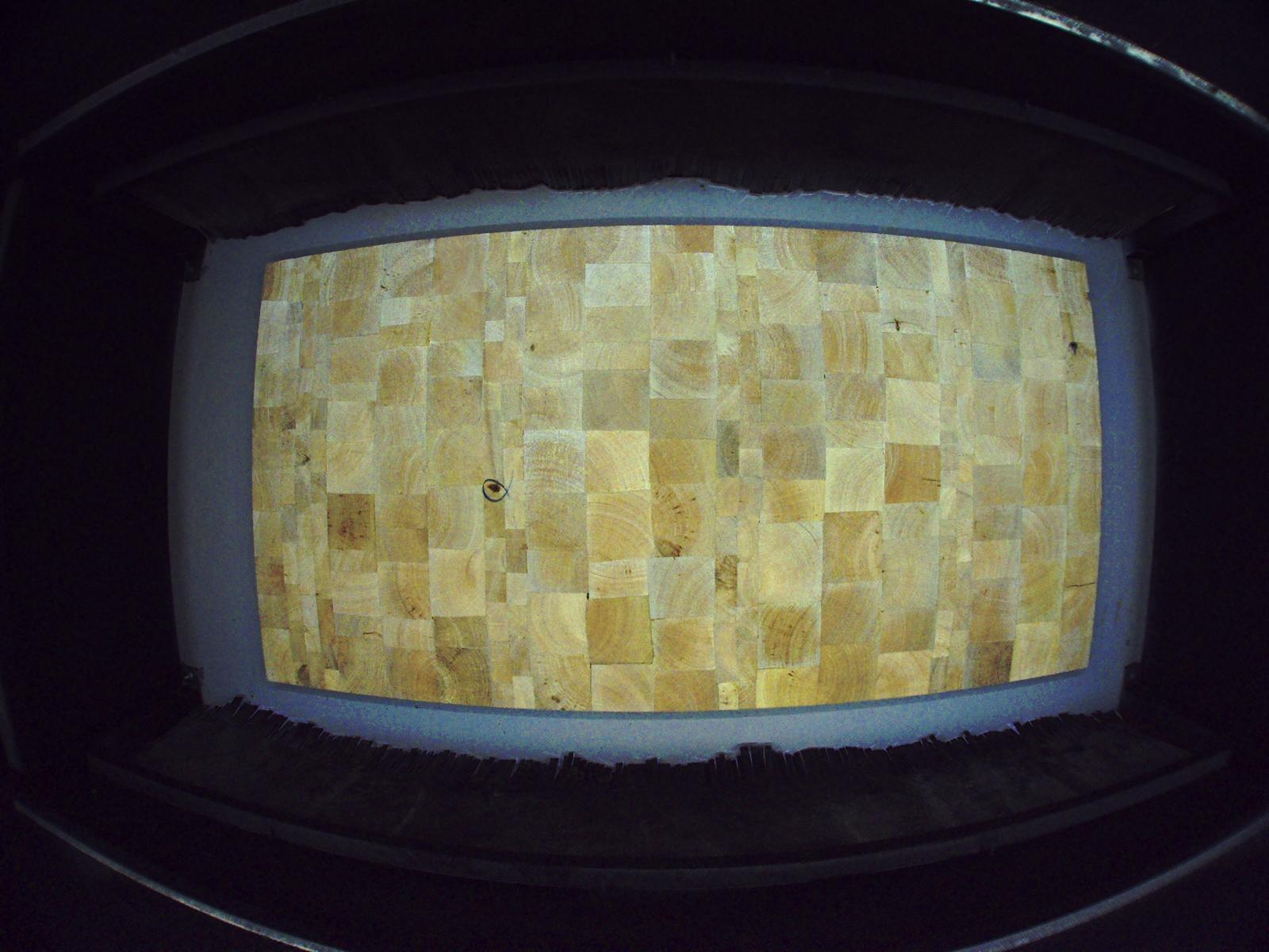nudillo: (1068, 340, 1080, 358), (486, 482, 503, 494)
sheck_ecuatoriano: (881, 318, 913, 333)
